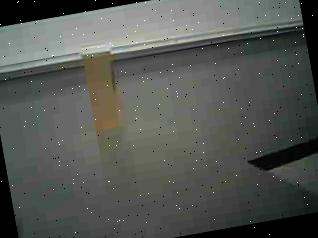Bottle A: (73, 36, 136, 140)
